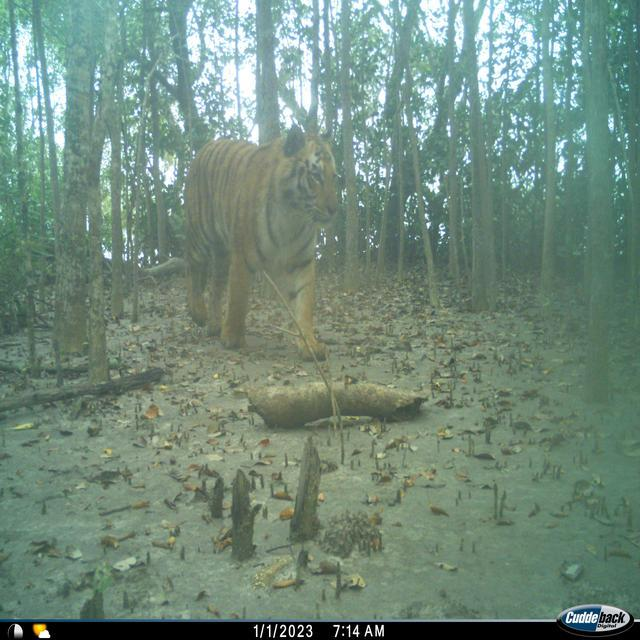tiger: (181, 122, 340, 361)
